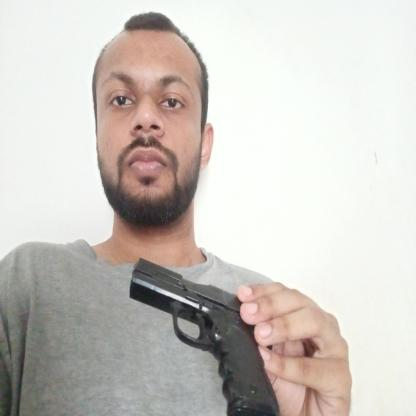handgun: (128, 257, 281, 416)
